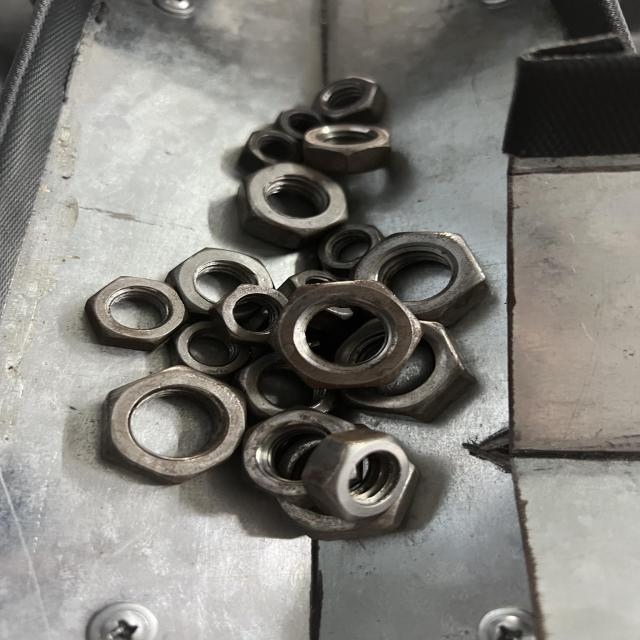nut: (102, 366, 245, 484), (278, 280, 421, 386), (238, 163, 350, 247), (306, 431, 408, 517), (88, 276, 183, 350)
